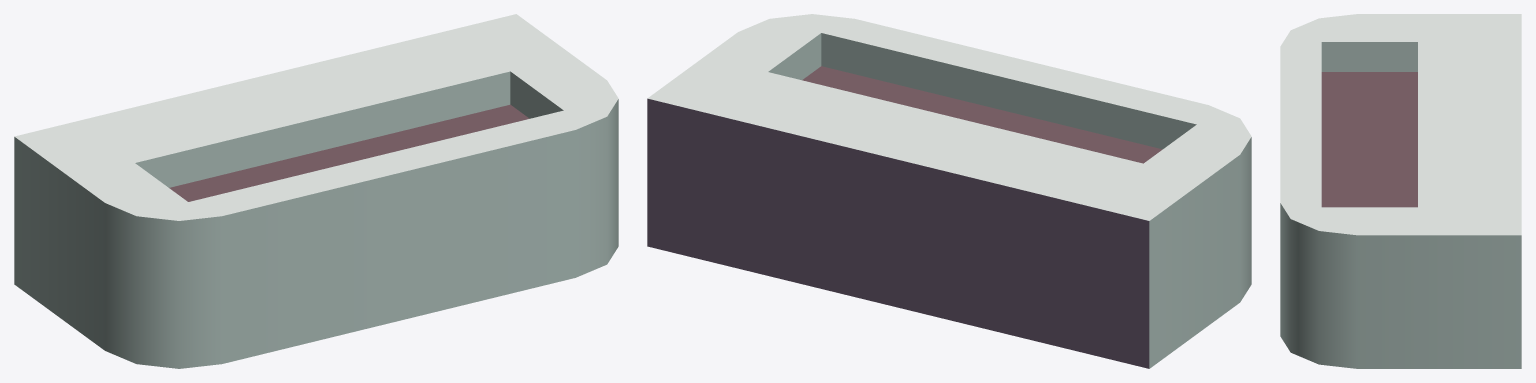
Rendered from PlanterBox_White02.glb.
3 views of the same model, side by side, from view 1: azimuth 30°, elevation 25°; view 2: azimuth 150°, elevation 25°; view 3: azimuth 270°, elevation 25° (orthographic). The views are drawn at different scales.
Parts seen in each view (by area): view 1: PlanterBox_White02; view 2: PlanterBox_White02; view 3: PlanterBox_White02.
Boxes of the visible parts, bbox=[...] form: PlanterBox_White02: bbox=[14, 14, 618, 368]; PlanterBox_White02: bbox=[647, 14, 1251, 368]; PlanterBox_White02: bbox=[1280, 14, 1521, 368].
Bounding box in the file's own units: 0.9727 × 0.2738 × 0.4483.
Materials: 1 (1 with a texture image).
